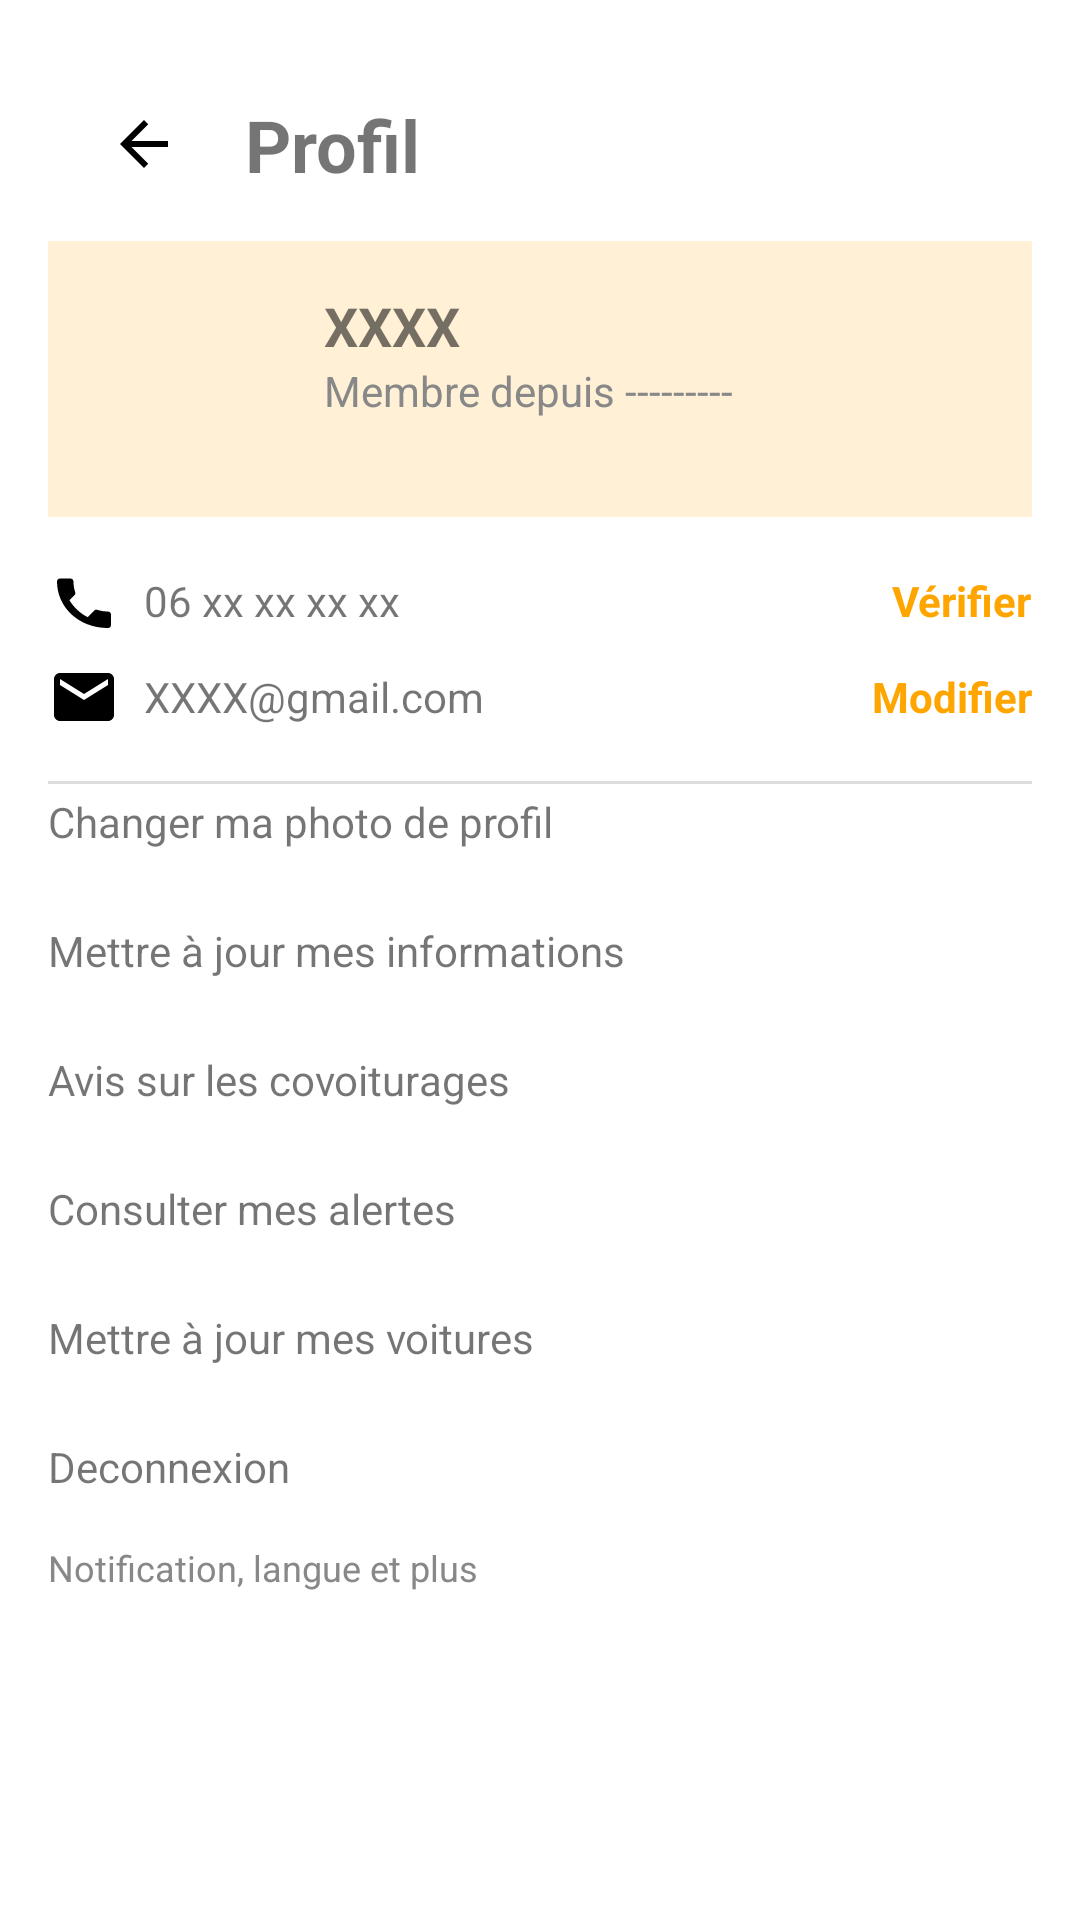

Locate icon controls on the screen. Image size 1080w x 1920h, boxes as (x1, y1, x2, y2).
email: (54, 673, 114, 721)
Go back: (120, 120, 168, 168)
phone: (57, 578, 111, 628)
